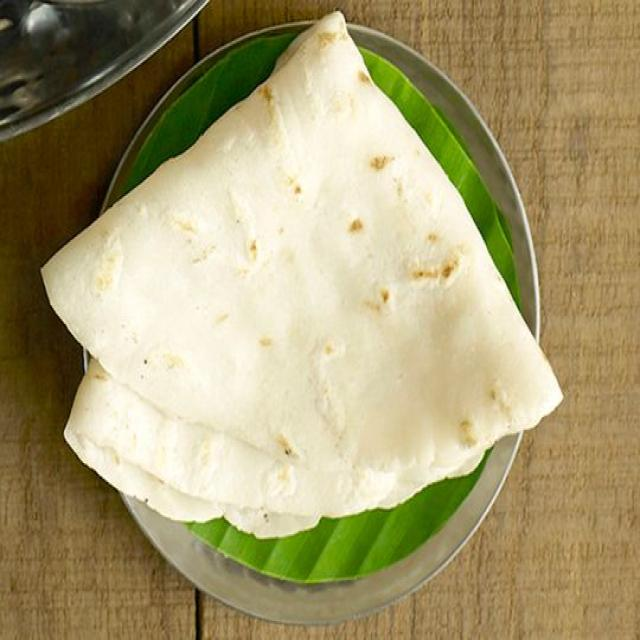RICE BHAKRI: (38, 14, 561, 529)
